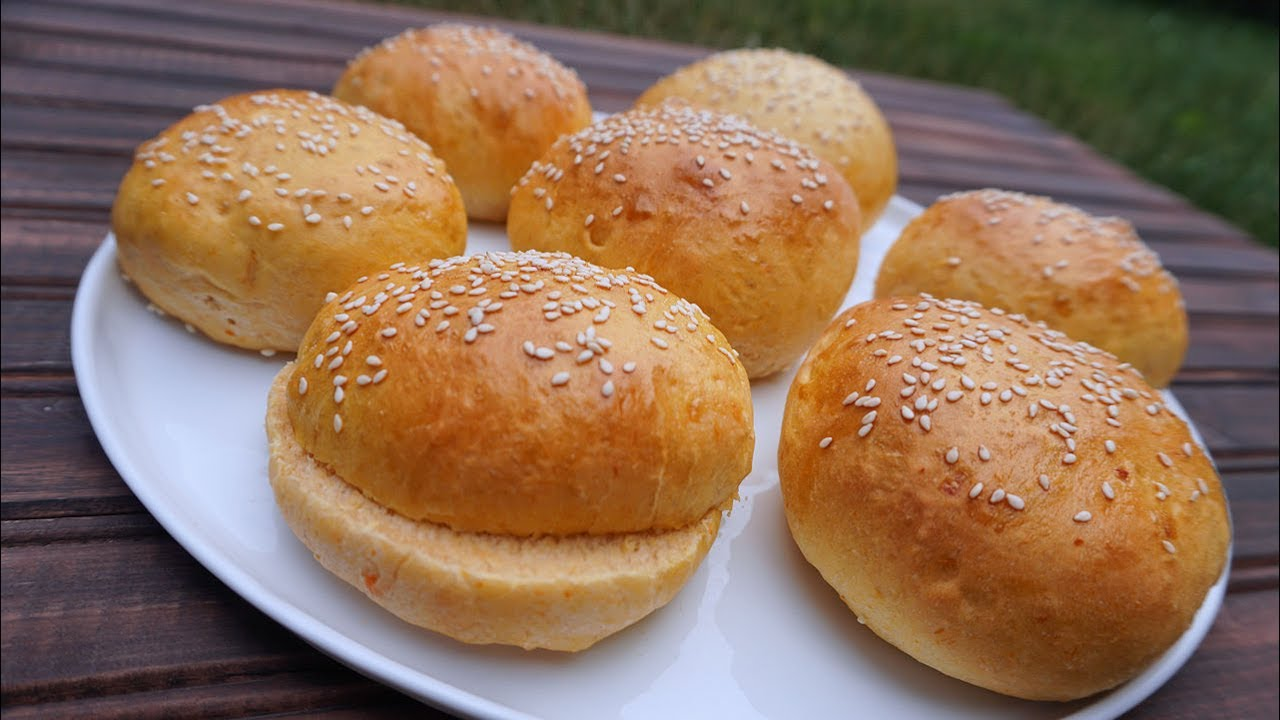hamburger_buns: (245, 229, 749, 628), (767, 298, 1233, 695), (516, 94, 888, 357), (121, 72, 450, 325)
